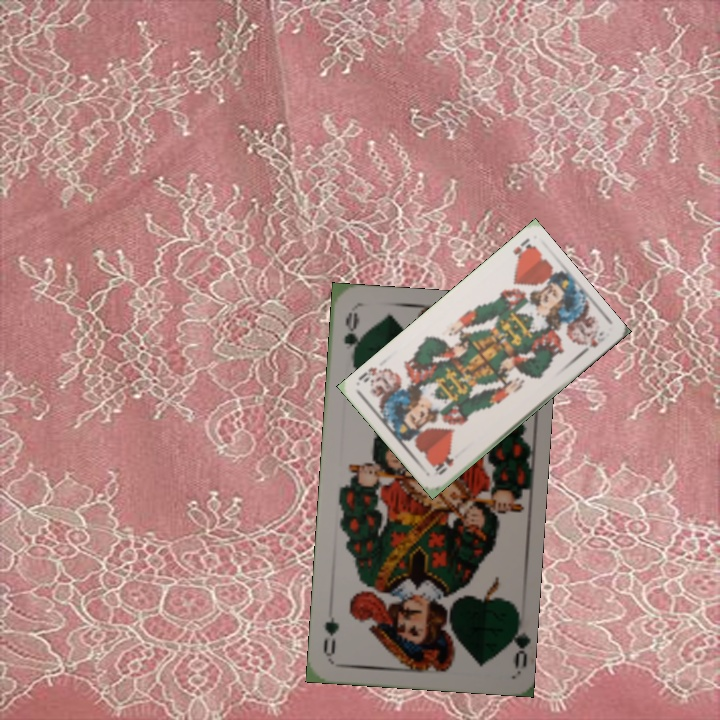GO: (501, 610, 529, 670), (340, 308, 363, 368)
HO: (509, 234, 537, 263), (430, 454, 457, 478)
